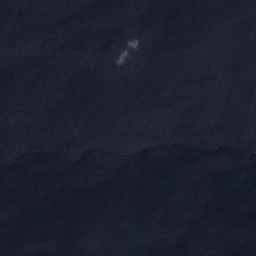Marine Debris: (254, 150, 256, 153)
